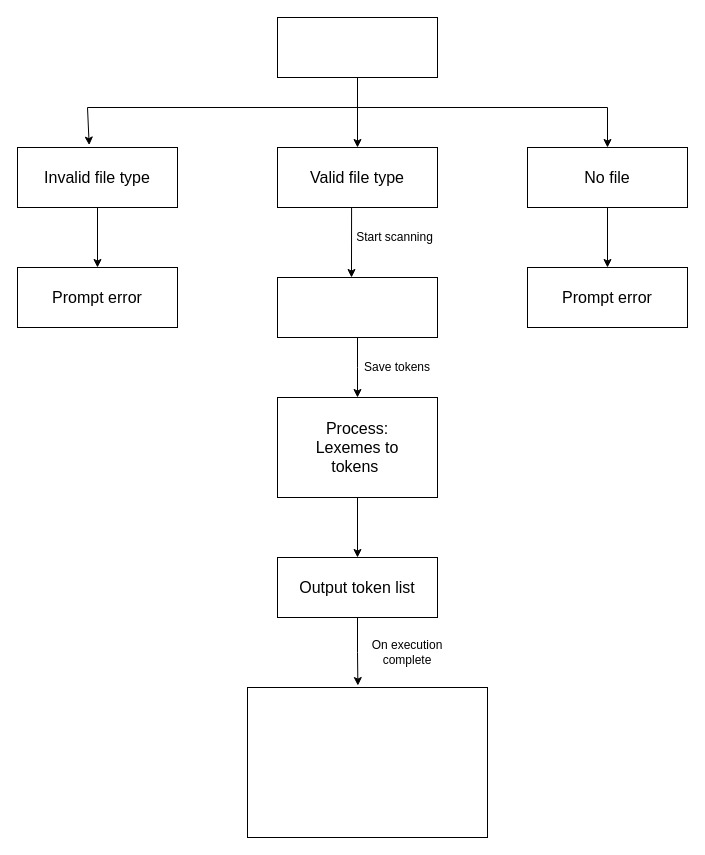
Some shapes in this 705 by 855 pixel diagram are drawn without their labels. The centre of each missing label's shape, as x and y in pixels:
"Program summary: Runtime Number of tokens errors" belongs at (367,762).
"Read file. C by C" belongs at (357,307).
"Read main.py" belongs at (357,47).
